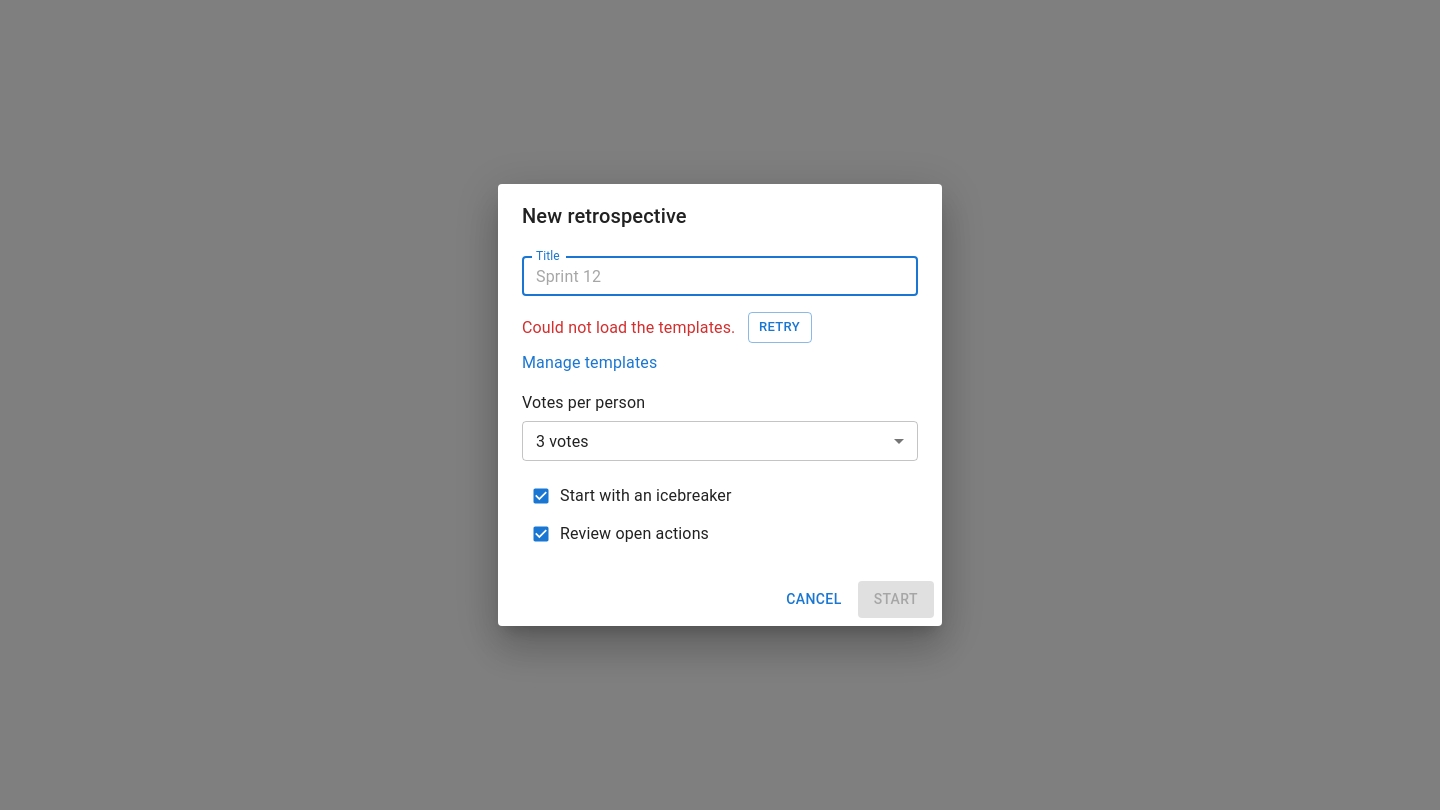
Scenario: NewRetroDialog › offers a retry when the templates fail to load
The image size is (1440, 810).
Click the button "Retry". click: coordinates (780, 328)
box: [748,312,812,343]
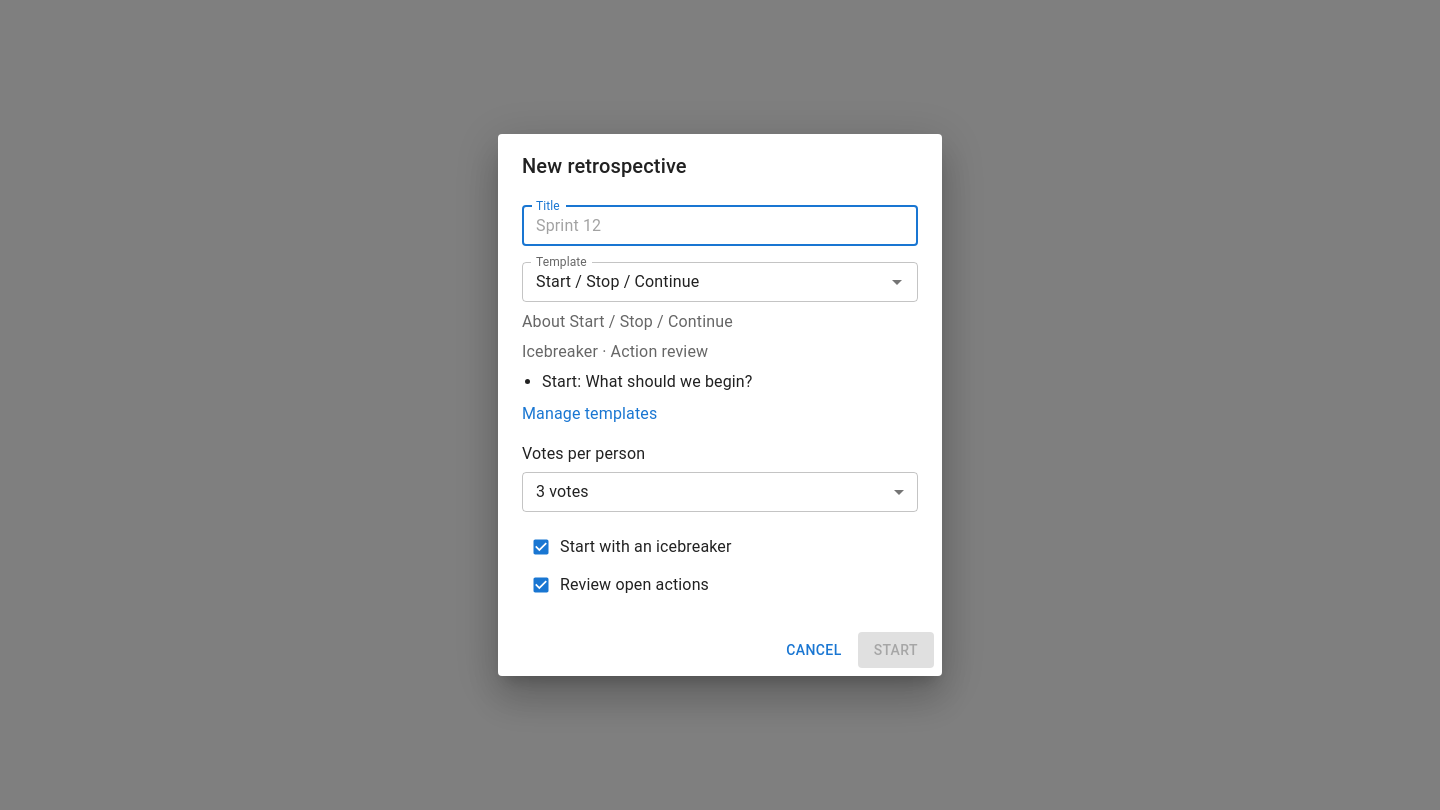
Result: the dropdown labelled "Template" is shown at [528,268,879,296]
